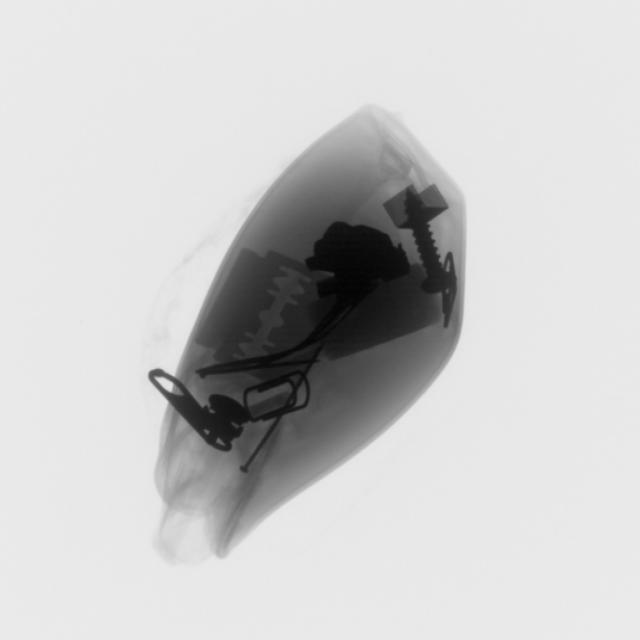GUN: (232, 223, 336, 448), (211, 373, 216, 461), (202, 370, 213, 375)
